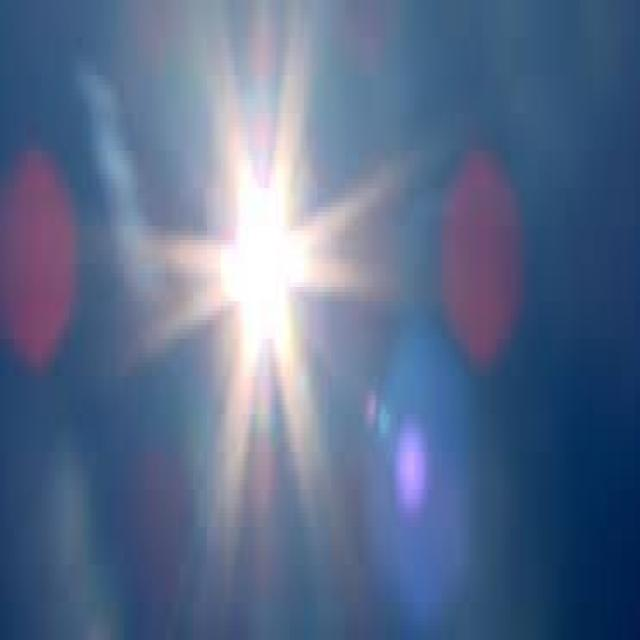other: (208, 125, 320, 362)
